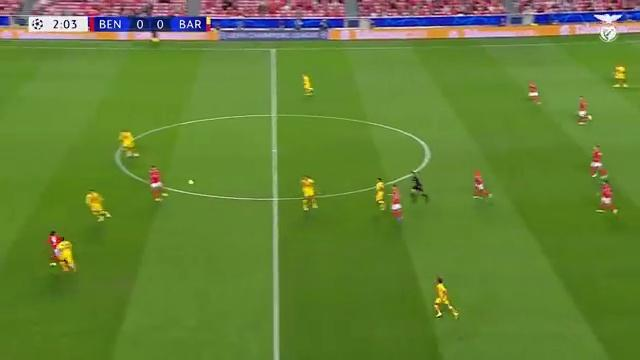football: (187, 178, 196, 186)
player: (434, 277, 458, 318), (85, 190, 110, 221), (56, 237, 76, 271), (597, 180, 617, 213), (149, 166, 167, 200), (301, 175, 317, 210), (590, 145, 607, 177), (119, 130, 138, 156), (474, 170, 491, 198), (48, 231, 61, 266), (391, 184, 403, 221), (578, 96, 591, 124), (375, 178, 385, 210), (613, 65, 627, 87), (528, 82, 540, 104), (302, 74, 313, 95)
referee: (411, 171, 429, 202)
